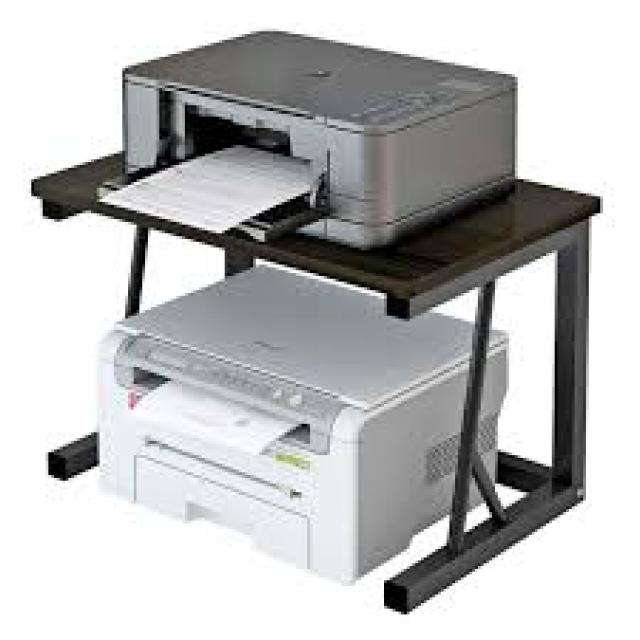printer: (94, 262, 509, 586), (120, 26, 518, 250)
